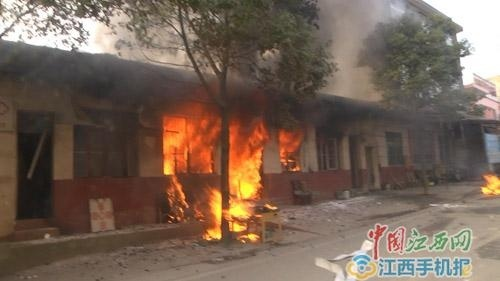fire: (161, 104, 278, 243), (480, 170, 500, 196)
